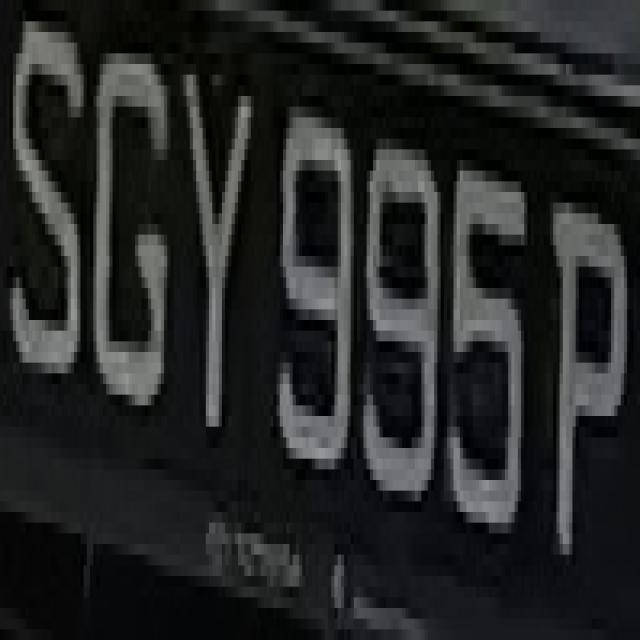5: (447, 139, 534, 544)
9: (274, 64, 364, 512), (370, 107, 440, 512)
G: (90, 11, 167, 448)
P: (550, 149, 630, 587)
S: (16, 32, 90, 427)
Y: (167, 32, 261, 480)
